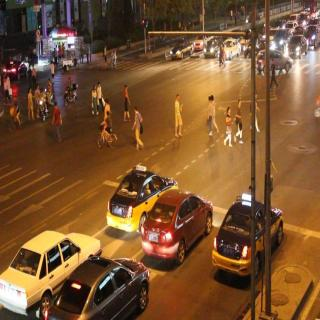Car: (0, 220, 97, 317), (45, 257, 160, 320), (144, 191, 217, 271), (216, 197, 288, 276), (112, 155, 180, 233), (252, 38, 298, 79), (165, 30, 196, 70), (222, 38, 244, 67), (289, 32, 309, 59), (204, 36, 224, 61), (306, 20, 320, 52), (194, 27, 211, 52), (284, 21, 300, 33), (267, 28, 283, 40)
